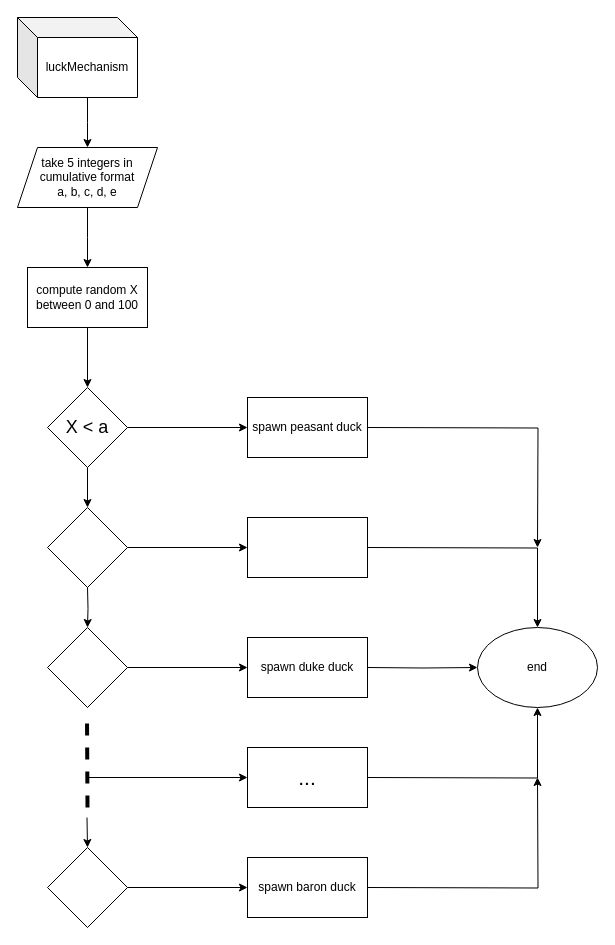
The diagram is 615 pixels wide and 945 high, and some of its shapes have lost their labels. Each missing label, with the centre of its shape:
spawn commoner duck: (x=307, y=547)
X < b: (x=87, y=547)
X < c: (x=87, y=667)
X < e: (x=87, y=887)
